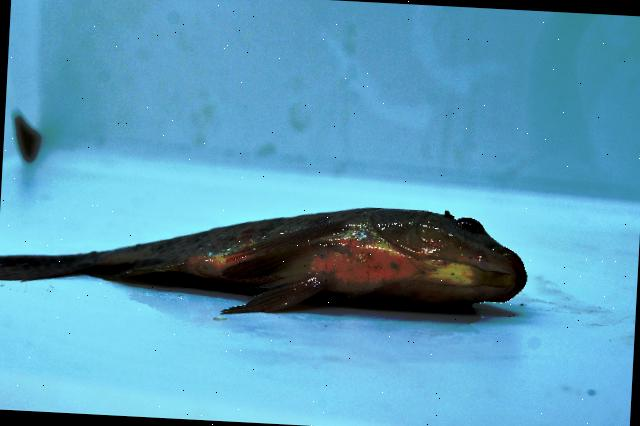Columnaris Disease: (0, 209, 526, 314)
